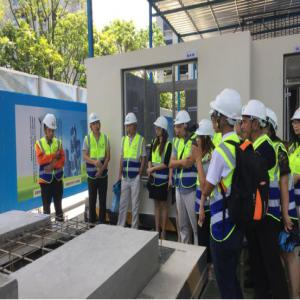white: (214, 89, 243, 134), (241, 98, 267, 140), (196, 120, 214, 149), (175, 111, 190, 138), (43, 114, 58, 140), (125, 113, 139, 137), (155, 117, 169, 139), (89, 113, 102, 136), (291, 108, 300, 135)
